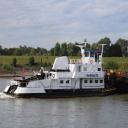tugboat: (4, 43, 117, 102)
